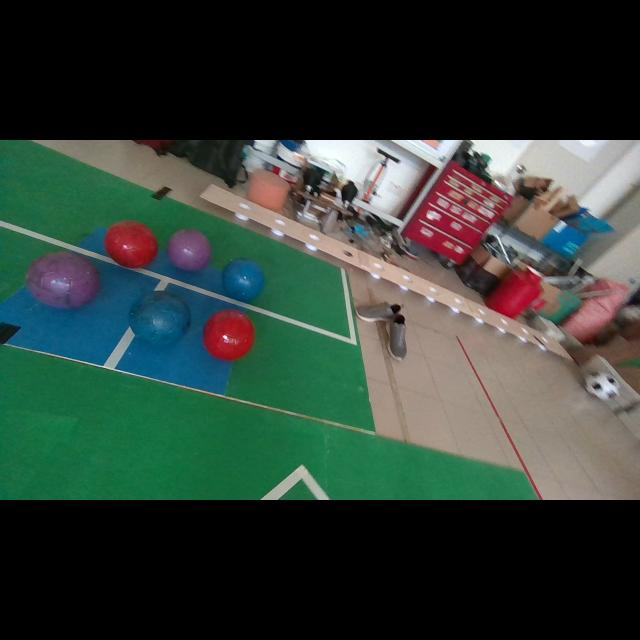B: (129, 290, 191, 345), (222, 258, 265, 302)
P: (26, 251, 100, 309), (169, 230, 210, 271)
R: (202, 309, 255, 360), (105, 220, 159, 269)
